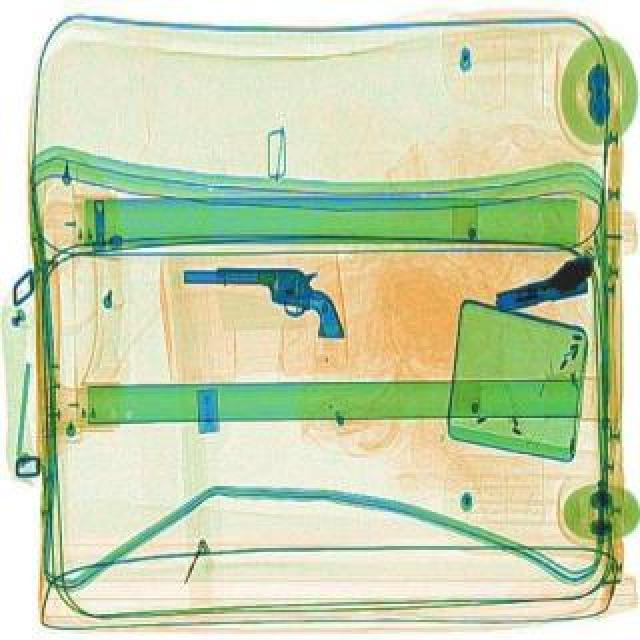gun: (178, 258, 352, 336), (488, 250, 600, 318)
